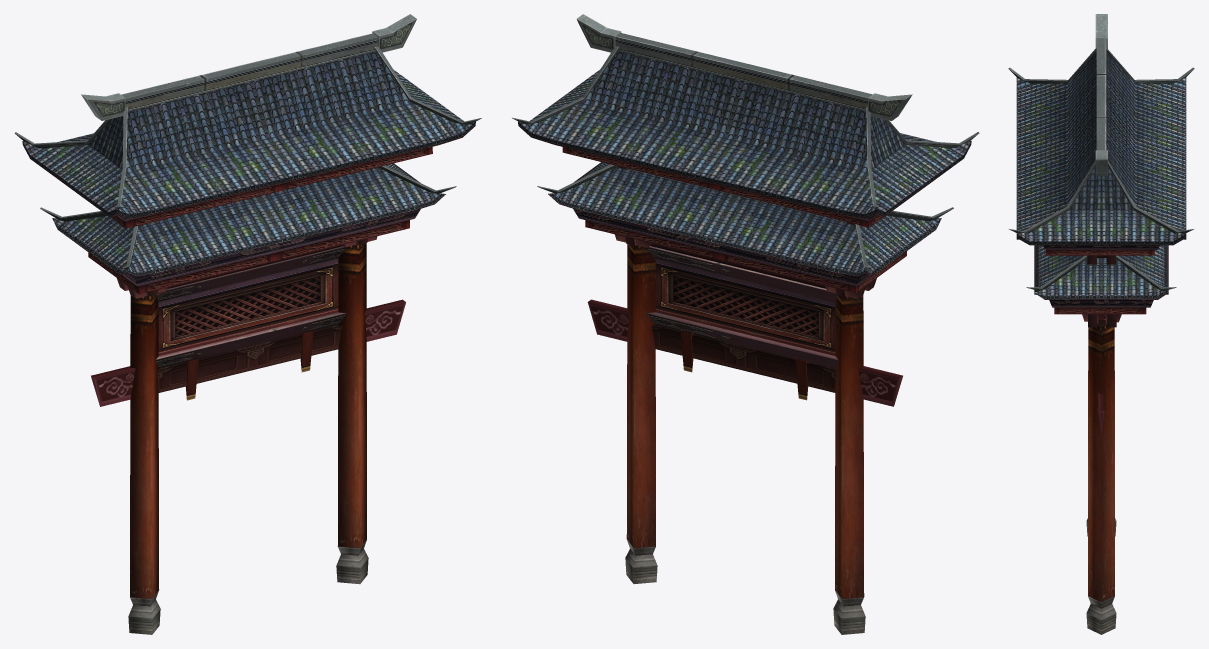
The model's file is Maincity06_Object_Door_LOD1.FBX.
The picture shows the model from 3 angles, left to right: view 1: azimuth 30°, elevation 25°; view 2: azimuth 150°, elevation 25°; view 3: azimuth 270°, elevation 25°; orthographic projection. The views are drawn at different scales.
Visible parts, largest first — view 1: Maincity06_Object_Door_LOD1; view 2: Maincity06_Object_Door_LOD1; view 3: Maincity06_Object_Door_LOD1.
Boxes of the visible parts, bbox=[...] form: Maincity06_Object_Door_LOD1: bbox=[14, 14, 481, 634]; Maincity06_Object_Door_LOD1: bbox=[512, 14, 979, 634]; Maincity06_Object_Door_LOD1: bbox=[1008, 14, 1194, 634].
Bounding box in the file's own units: 1010 × 1438 × 491.
